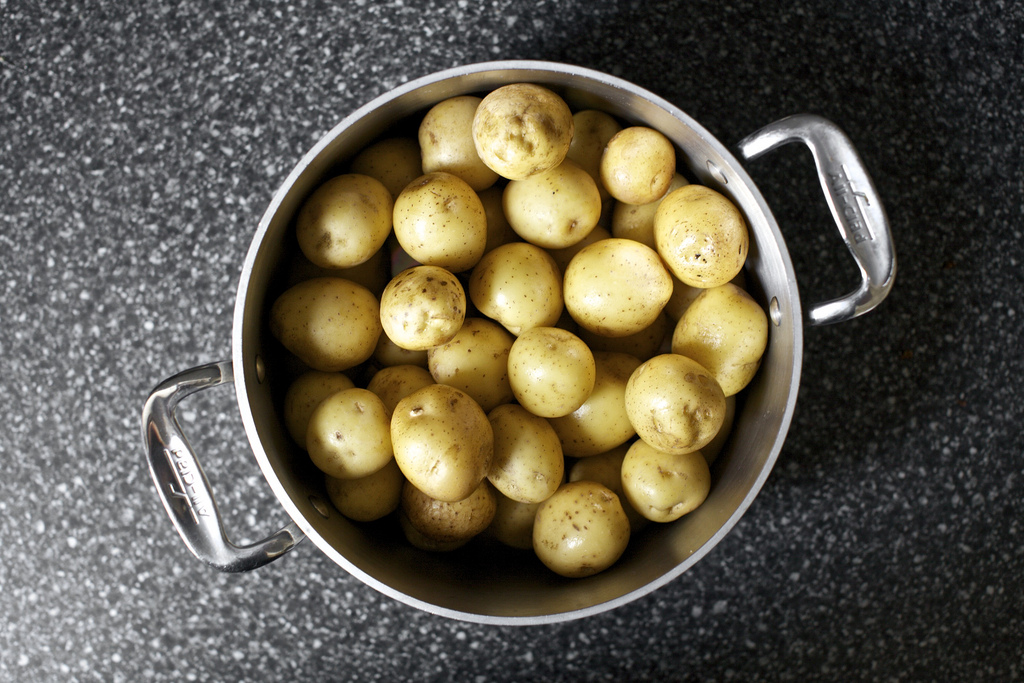boiled potatoes: (313, 152, 707, 568)
